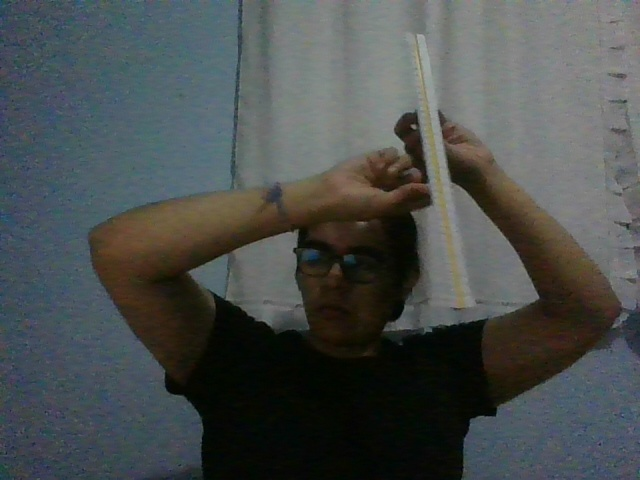regla: (405, 32, 477, 310)
